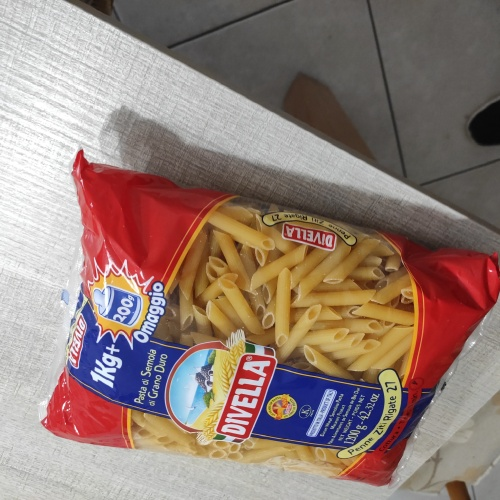pasta: (76, 194, 448, 483)
